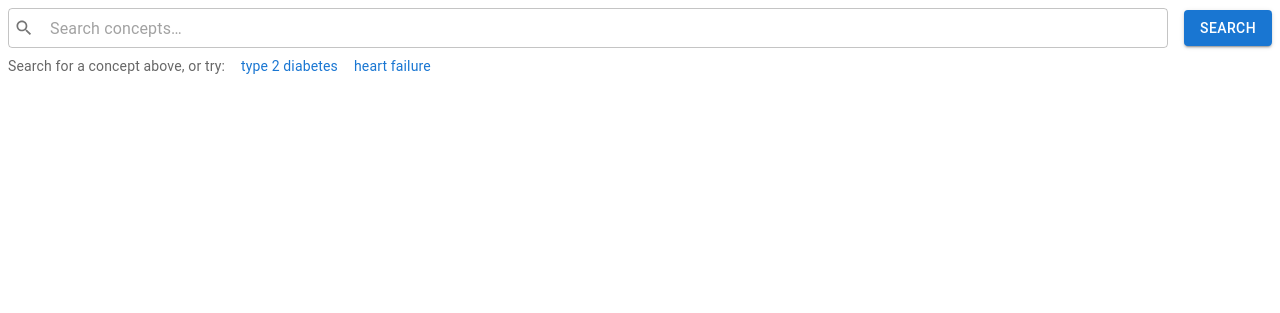
Test: Search › selecting a suggestion › shows every concept sharing the selected name in the results
The width and height of the screenshot is (1280, 313).
In the dropdown labelled "Search": (601, 28) x1=42 y1=14 x2=1159 y2=42, type "hyper"
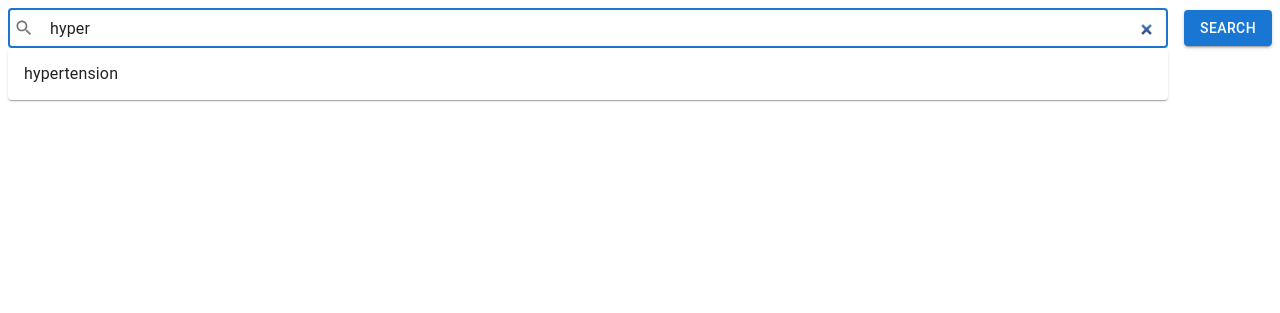
Now the list is shown
Now the number of options is 1
Click the option "hypertension": (71, 74) x1=24 y1=64 x2=118 y2=83
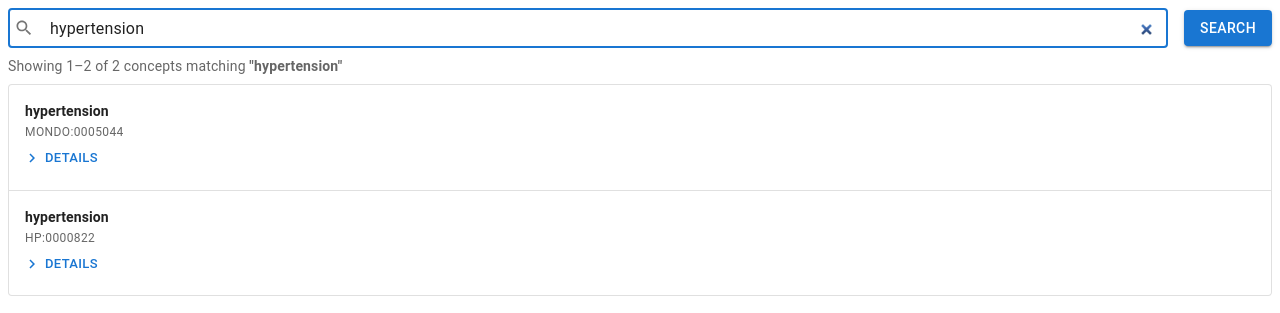
Now the 1st heading "hypertension" is shown, box x1=25 y1=101 x2=109 y2=123
